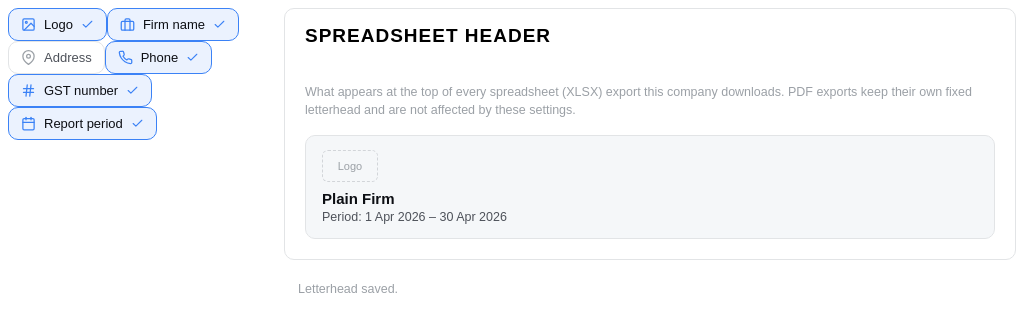
Test: ExportsManager › shows no save control until something is changed, then offers to discard
Expected: the button "Save changes" is not shown
Click the button "Firm name": (173, 24) [107,8,239,41]
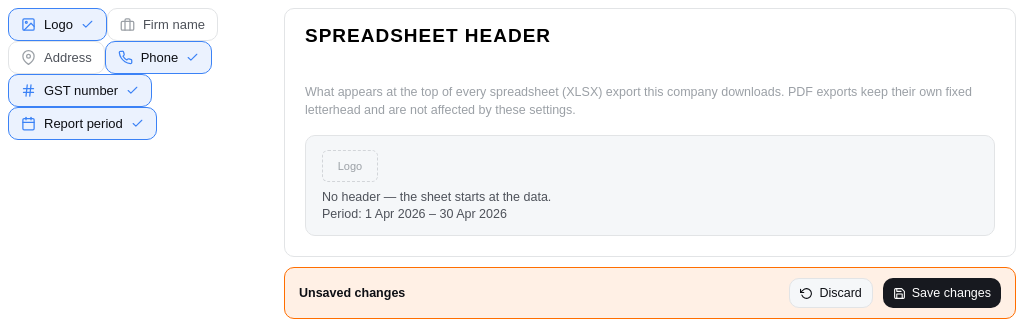
Now the button "Save changes" is shown, box [883,278,1001,308]
Discarding puts the toggle back and takes the bar away with it.
Click the button "Discard": (831, 293) [789,278,873,308]
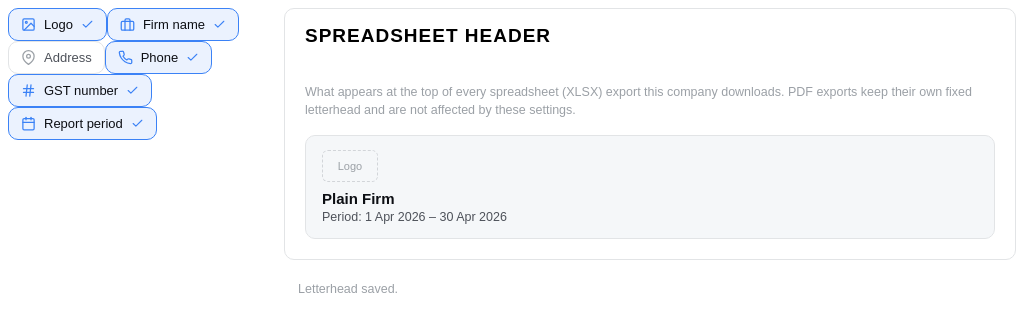
Now the button "Save changes" is gone
